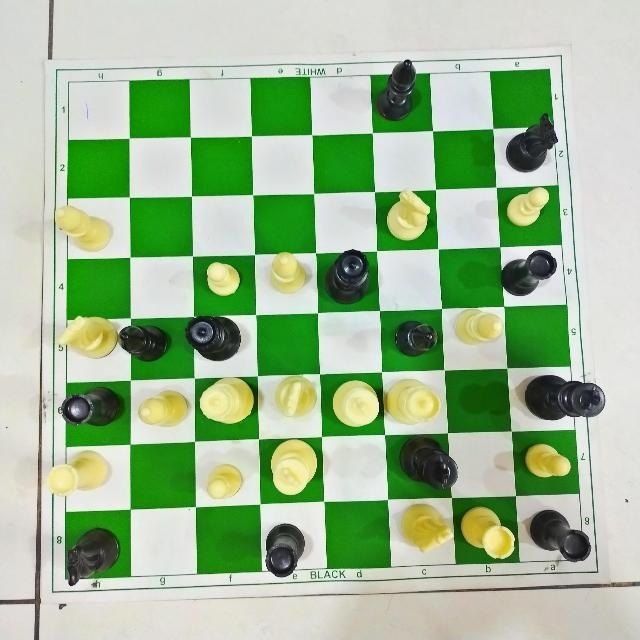black-bishop: (374, 50, 426, 121), (116, 317, 176, 367), (393, 312, 441, 360)
black-king: (524, 364, 604, 434), (393, 431, 465, 493)
black-knight: (60, 529, 120, 589), (501, 115, 559, 175)
black-queen: (181, 309, 243, 364), (326, 249, 372, 302)
black-rook: (528, 501, 597, 563), (257, 514, 312, 583), (501, 245, 563, 297), (60, 386, 124, 434)
white-bishop: (49, 201, 120, 253), (452, 301, 507, 356), (136, 381, 189, 431), (261, 251, 313, 293)
white-king: (266, 436, 320, 504), (328, 372, 385, 434)
white-knight: (396, 499, 455, 559), (268, 368, 325, 423), (59, 309, 118, 362), (383, 184, 435, 239)
white-pawn: (525, 436, 577, 486), (201, 454, 247, 504), (197, 255, 250, 298), (504, 185, 552, 231)
white-queen: (202, 372, 257, 427), (386, 372, 441, 427)
white-rook: (459, 500, 519, 569), (46, 445, 111, 500)
